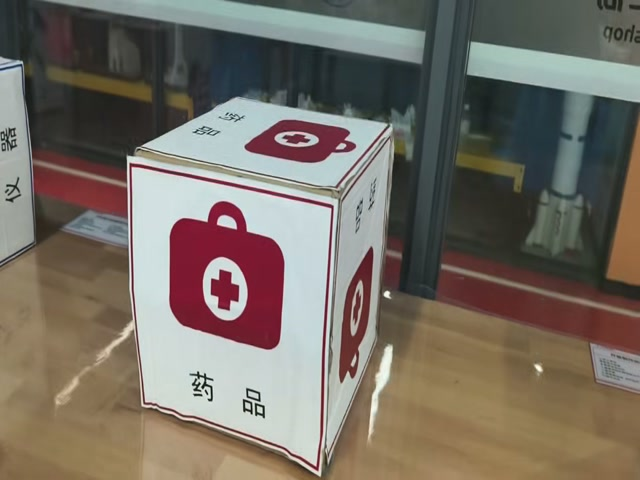Cube_medicine: (130, 94, 396, 203)
